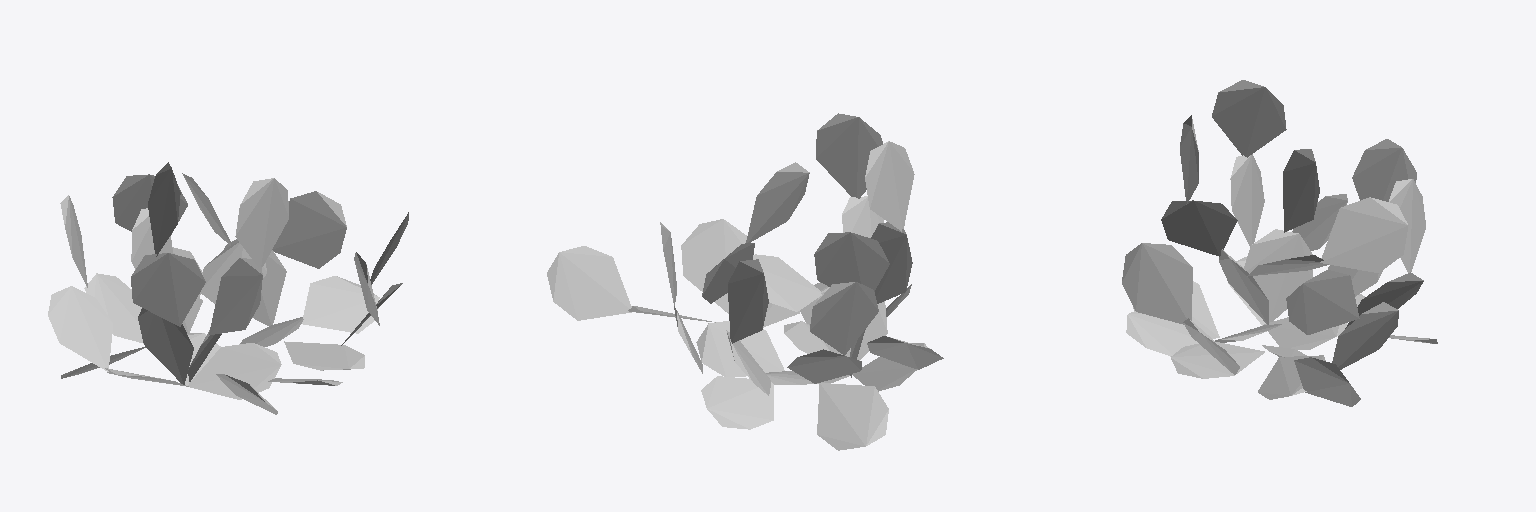
File: PricklyPearCactus_LOD2.obj
3 views of the same model, side by side, from view 1: azimuth 30°, elevation 25°; view 2: azimuth 150°, elevation 25°; view 3: azimuth 270°, elevation 25° (orthographic).
Parts seen in each view (by area): view 1: PricklyPearCactus_LOD2; view 2: PricklyPearCactus_LOD2; view 3: PricklyPearCactus_LOD2.
Part boxes in pixels (bbox=[...]): PricklyPearCactus_LOD2: bbox=[48, 162, 408, 414]; PricklyPearCactus_LOD2: bbox=[547, 113, 943, 450]; PricklyPearCactus_LOD2: bbox=[1122, 80, 1437, 406].
Bounding box in the file's own units: 174 × 113 × 128.